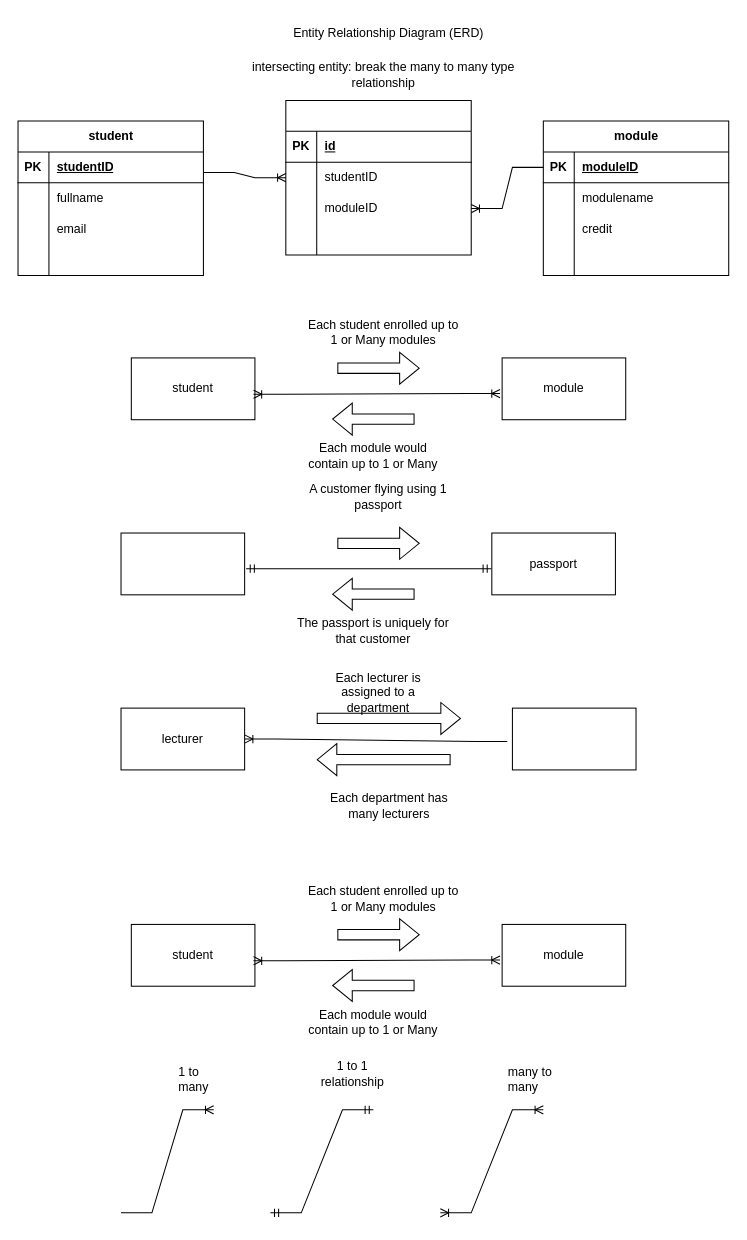
The diagram is 747 pixels wide and 1240 high, and some of its shapes have lost their labels. The box of each missing label's shape, as (x1, y1, x2, y2) in pixels:
customer: (120, 532, 245, 595)
department: (511, 707, 636, 770)
enrolment: (285, 99, 471, 255)
